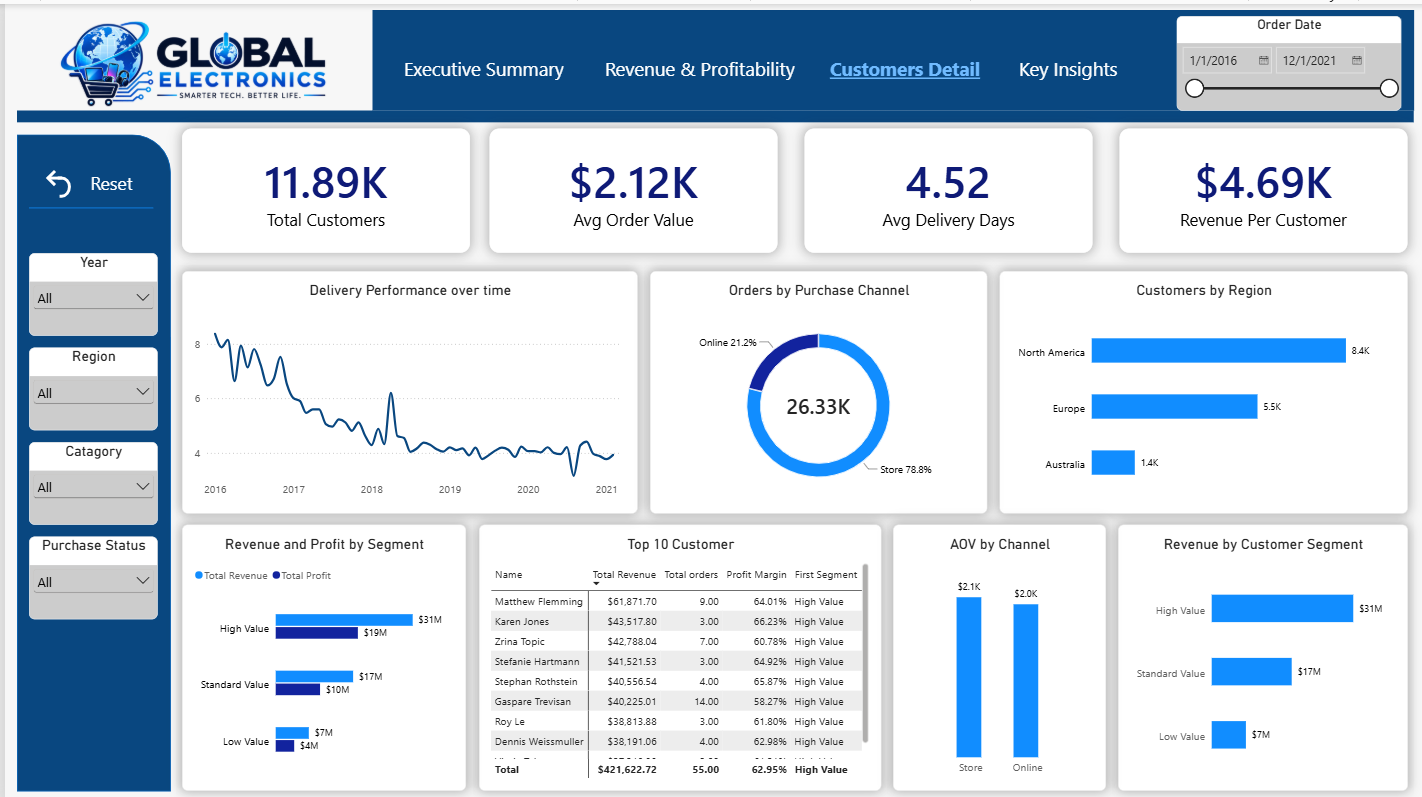

What the dashboard file says about the page in this screenshot:
{"tool":"powerbi","page":{"name":"Customers Detail","canvas":[1920,1080],"ordinal":2},"visuals":[{"type":"actionButton","box":[528,48,272,80],"z":0,"group":"g5"},{"type":"group","id":"g1","title":"Group 5","box":[264,168,379.9,168],"z":0,"group":"g4"},{"type":"shape","box":[16,176,208,888],"z":0},{"type":"actionButton","box":[800,48,304,80],"z":1000,"group":"g5"},{"type":"card","title":"Total Revenue⚖️","fields":{"Values":["Sales.Avg Order Value"]},"box":[679.6,168,389.6,168],"z":1000,"group":"g4"},{"type":"actionButton","box":[40,216,144,48],"z":1000},{"type":"actionButton","box":[1104,48,256,80],"z":2000,"group":"g5"},{"type":"card","title":"Total Revenue⚖️","fields":{"Values":["Sales.Total Customers"]},"box":[264,168,389.6,168],"z":2000,"group":"g1"},{"type":"card","title":"Total Revenue⚖️","fields":{"Values":["Sales.Avg of Delivery time"]},"box":[1105,168,389.6,168],"z":2000,"group":"g2"},{"type":"card","title":"Total Revenue⚖️","fields":{"Values":["Sales.Revenue Per Customer"]},"box":[1530.4,168,389.6,168],"z":2000,"group":"g4"},{"type":"shape","box":[32,264,168,24],"z":2000},{"type":"actionButton","box":[1360,48,176,80],"z":3000,"group":"g5"},{"type":"group","id":"g2","title":"Group 1","box":[1105,168,389.6,168],"z":3000,"group":"g4"},{"type":"group","id":"g3","title":"Group 7","box":[32,336,160,496],"z":3000},{"type":"image","box":[16,16,480,128],"z":4000},{"type":"shape","box":[16,144,1888,16],"z":5000},{"type":"shape","box":[496,8,1408,136],"z":6000},{"type":"barChart","title":"Revenue by Customer Segment","fields":{"Category":["Customer Revenue.Segment"],"Y":["Sales.Total Revenue"]},"box":[1504,704,392,360],"z":7000},{"type":"pivotTable","title":"Top 10 Customer","fields":{"Rows":["Customers.Name"],"Values":["Sales.Total Revenue","Sales.Total orders","Sales.Profit Margin","Min(Customer Revenue.Segment)"]},"box":[640,704,544,360],"z":8000},{"type":"slicer","title":"Year","fields":{"Values":["calendar.Year"]},"box":[32,336,174.1,112],"z":9000,"group":"g3"},{"type":"clusteredBarChart","title":"Customers by Region","fields":{"Category":["Customers.Continent"],"Y":["CountNonNull(Customers.CustomerKey)"]},"box":[1344,360,552,328],"z":9000},{"type":"clusteredBarChart","title":"Revenue and Profit by Segment","fields":{"Category":["Customer Revenue.Segment"],"Y":["Sales.Total Revenue","Sales.Total Profit"]},"box":[240,704,384,360],"z":10000},{"type":"group","id":"g4","title":"Group 2","box":[264,168,1656,168],"z":11000},{"type":"lineChart","title":"Delivery Performance over time ","fields":{"Category":["calendar.month"],"Y":["Avg(Sales.Delivery time)"]},"box":[240,360,616,328],"z":12000},{"type":"slicer","title":"Region","fields":{"Values":["Customers.Continent"]},"box":[32,464,174.1,112],"z":12000,"group":"g3"},{"type":"donutChart","title":"Orders by Purchase Channel","fields":{"Category":["Sales.Purchase Status"],"Y":["Sales.Total orders"]},"box":[872,360,456,328],"z":13000},{"type":"slicer","title":"Order Date","fields":{"Values":["calendar.month"]},"box":[1584,16,304,128],"z":14000},{"type":"group","id":"g5","title":"Group 8","box":[528,48,1008,80],"z":15000},{"type":"slicer","title":"Purchase Status","fields":{"Values":["Sales.Purchase Status"]},"box":[32,720,174.1,112],"z":15000,"group":"g3"},{"type":"clusteredColumnChart","title":"AOV by Channel","fields":{"Category":["Sales.Purchase Status"],"Y":["Sales.Avg Order Value"]},"box":[1200,704,288,360],"z":15001},{"type":"slicer","title":"Catagory","fields":{"Values":["Products.Category"]},"box":[32,592,174.1,112],"z":23000,"group":"g3"}]}

Visuals, with their boxes in screenshot pixels (x1, y1, x2, y2), scaled from the page's 1920x1080 canvas onto the 1422x797 screenshot:
actionButton: <bbox>391, 35, 592, 94</bbox>
"Group 5" group: <bbox>196, 124, 477, 248</bbox>
shape: <bbox>12, 130, 166, 785</bbox>
actionButton: <bbox>592, 35, 818, 94</bbox>
"Total Revenue⚖️" card: <bbox>503, 124, 792, 248</bbox>
actionButton: <bbox>30, 159, 136, 195</bbox>
actionButton: <bbox>818, 35, 1007, 94</bbox>
"Total Revenue⚖️" card: <bbox>196, 124, 484, 248</bbox>
"Total Revenue⚖️" card: <bbox>818, 124, 1107, 248</bbox>
"Total Revenue⚖️" card: <bbox>1133, 124, 1421, 248</bbox>
shape: <bbox>24, 195, 148, 213</bbox>
actionButton: <bbox>1007, 35, 1138, 94</bbox>
"Group 1" group: <bbox>818, 124, 1107, 248</bbox>
"Group 7" group: <bbox>24, 248, 142, 614</bbox>
image: <bbox>12, 12, 367, 106</bbox>
shape: <bbox>12, 106, 1410, 118</bbox>
shape: <bbox>367, 6, 1410, 106</bbox>
"Revenue by Customer Segment" barChart: <bbox>1114, 520, 1404, 785</bbox>
"Top 10 Customer" pivotTable: <bbox>474, 520, 877, 785</bbox>
"Year" slicer: <bbox>24, 248, 153, 331</bbox>
"Customers by Region" clusteredBarChart: <bbox>995, 266, 1404, 508</bbox>
"Revenue and Profit by Segment" clusteredBarChart: <bbox>178, 520, 462, 785</bbox>
"Group 2" group: <bbox>196, 124, 1421, 248</bbox>
"Delivery Performance over time " lineChart: <bbox>178, 266, 634, 508</bbox>
"Region" slicer: <bbox>24, 342, 153, 425</bbox>
"Orders by Purchase Channel" donutChart: <bbox>646, 266, 984, 508</bbox>
"Order Date" slicer: <bbox>1173, 12, 1398, 106</bbox>
"Group 8" group: <bbox>391, 35, 1138, 94</bbox>
"Purchase Status" slicer: <bbox>24, 531, 153, 614</bbox>
"AOV by Channel" clusteredColumnChart: <bbox>889, 520, 1102, 785</bbox>
"Catagory" slicer: <bbox>24, 437, 153, 520</bbox>
